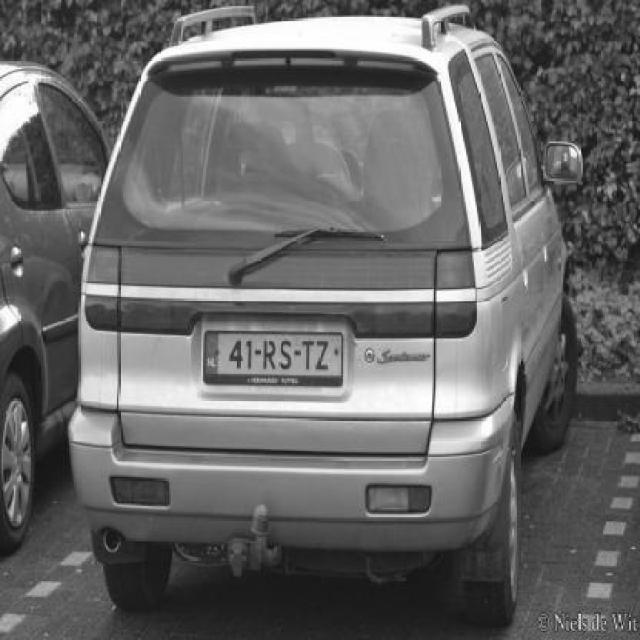car: (66, 0, 589, 635), (0, 55, 114, 554)
license-plate: (200, 329, 343, 386)
